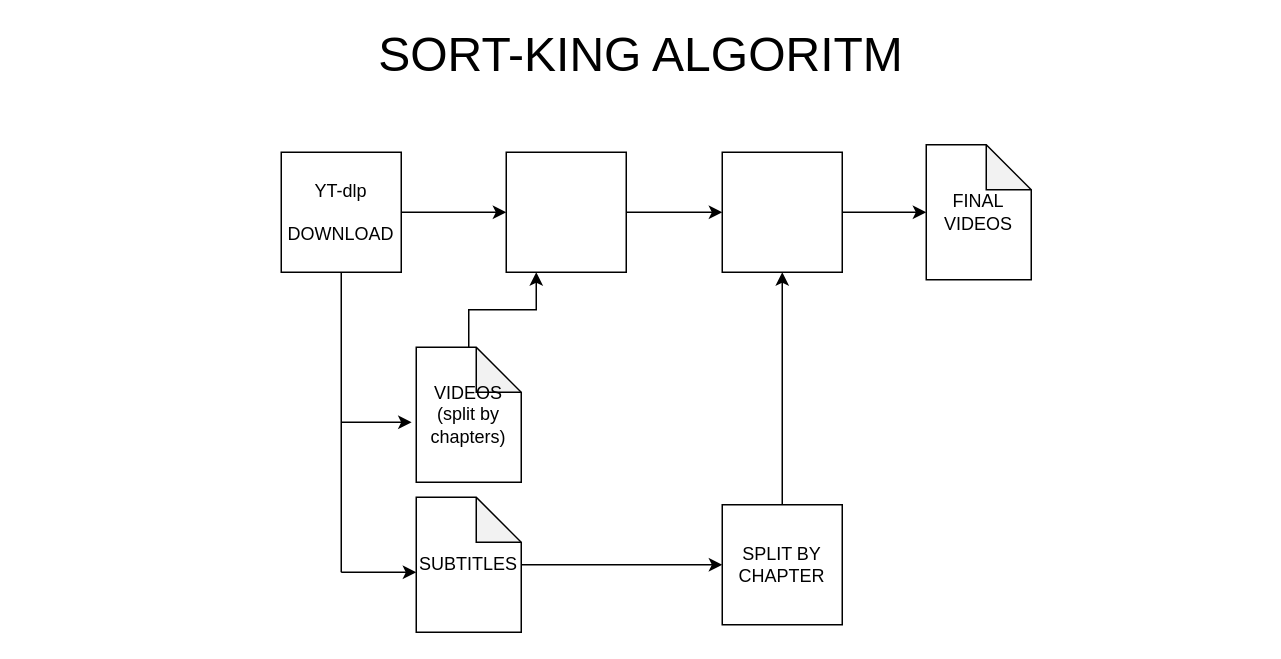
The diagram is 1281 pixels wide and 659 high, and some of its shapes have lost their labels. Here are the shapes that lost their labels. From the top down, the centre of each, then its label:
pixel 565 211: ffmpg CROP TO 2:3
pixel 781 211: COMBAIN video and Subtitles
